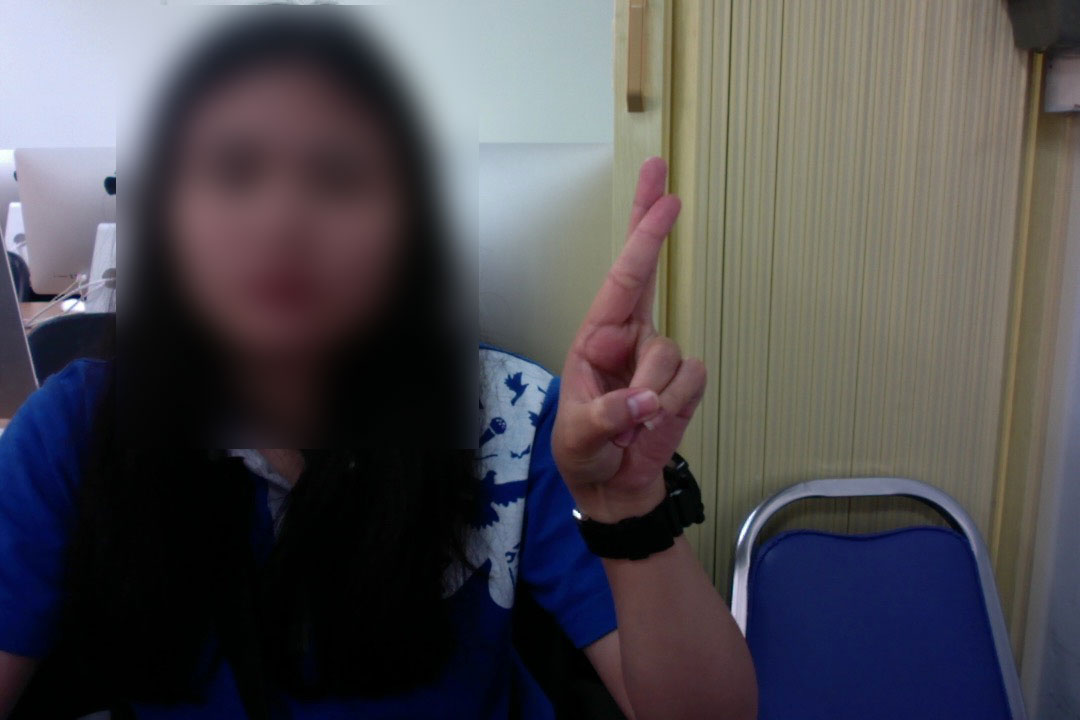rao: (531, 150, 718, 494)
